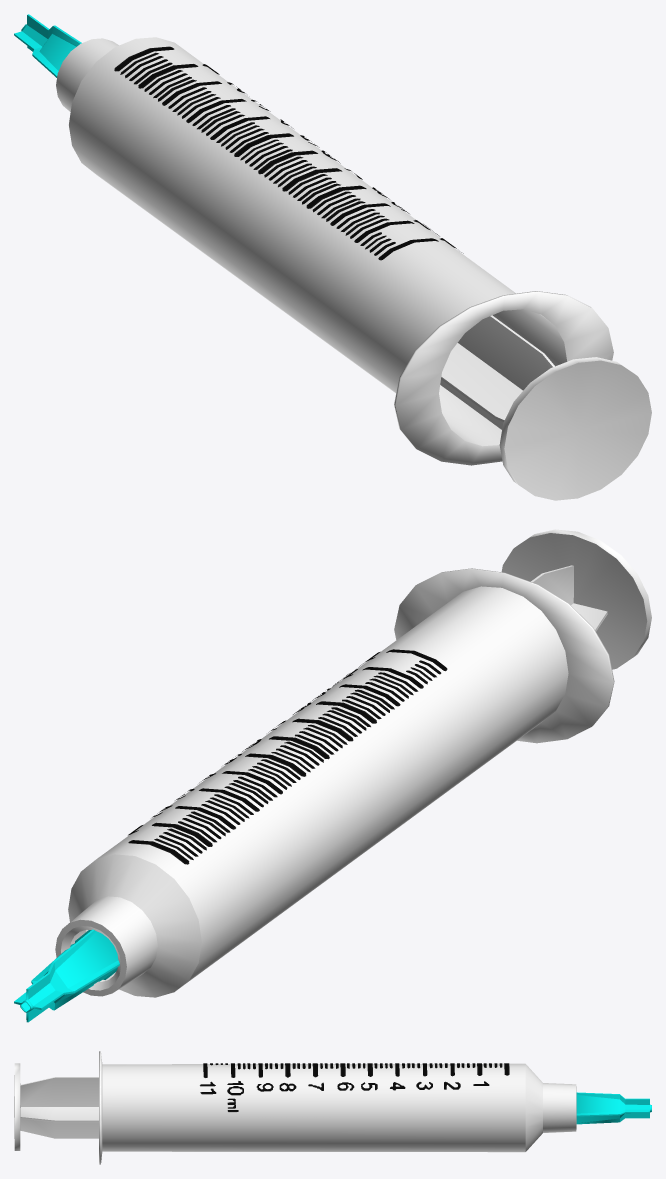
File: Syringe.fbx
3 renders of one model, top to bottom at view 1: azimuth 30°, elevation 25°; view 2: azimuth 150°, elevation 25°; view 3: azimuth 270°, elevation 25°, orthographic. The views are drawn at different scales.
Visible parts, largest first — view 1: Syringe_01, Syringe_02, Syringe_01.001; view 2: Syringe_01, Syringe_02, Syringe_01.001; view 3: Syringe_01, Syringe_02, Syringe_01.001.
Boxes of the visible parts, x1,y1,x2,y2 form: Syringe_01: (14, 14, 613, 465); Syringe_02: (440, 315, 651, 500); Syringe_01.001: (114, 46, 463, 260); Syringe_01: (14, 568, 614, 1022); Syringe_02: (501, 529, 651, 669); Syringe_01.001: (128, 649, 447, 864); Syringe_01: (99, 1051, 651, 1164); Syringe_02: (14, 1063, 98, 1150); Syringe_01.001: (199, 1063, 509, 1112).
Size of the model in its own units: 0.0191 by 0.0138 by 0.0838.
